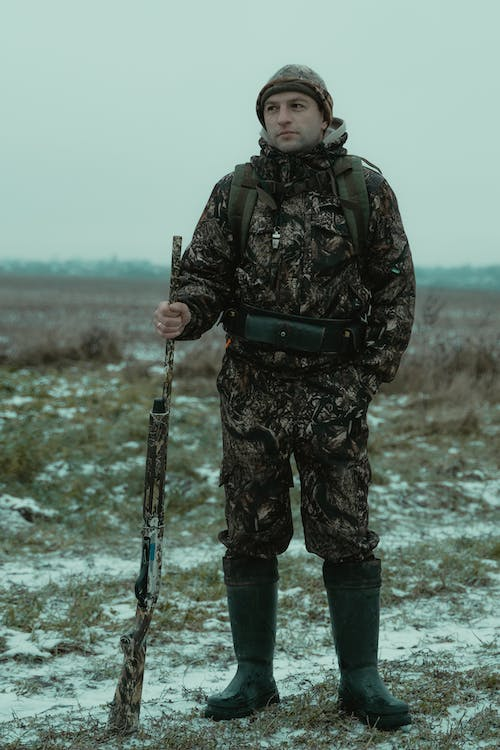gun: (102, 232, 186, 734)
